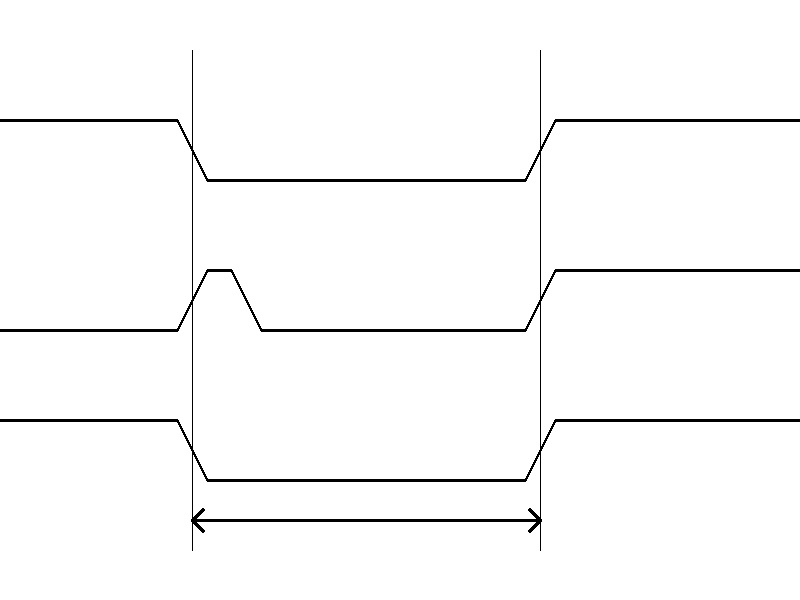double_arrow: (192, 505, 540, 535)
